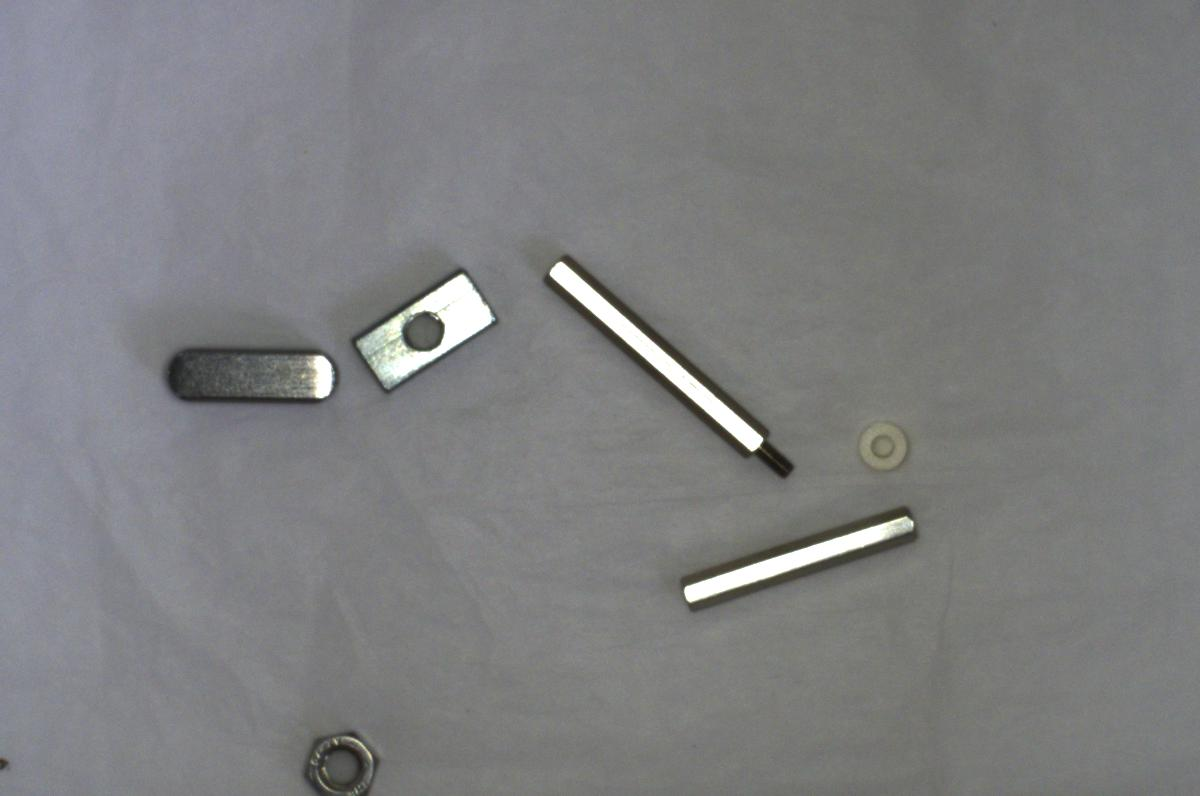Double hexagonal column: (674, 501, 922, 609)
Hexagon nut: (293, 712, 380, 795)
Hexagonal steel column: (537, 249, 804, 483)
Keybar: (162, 336, 341, 412)
Plastic cushion pillar: (848, 419, 913, 478)
Rectangular nut: (357, 262, 501, 392)
